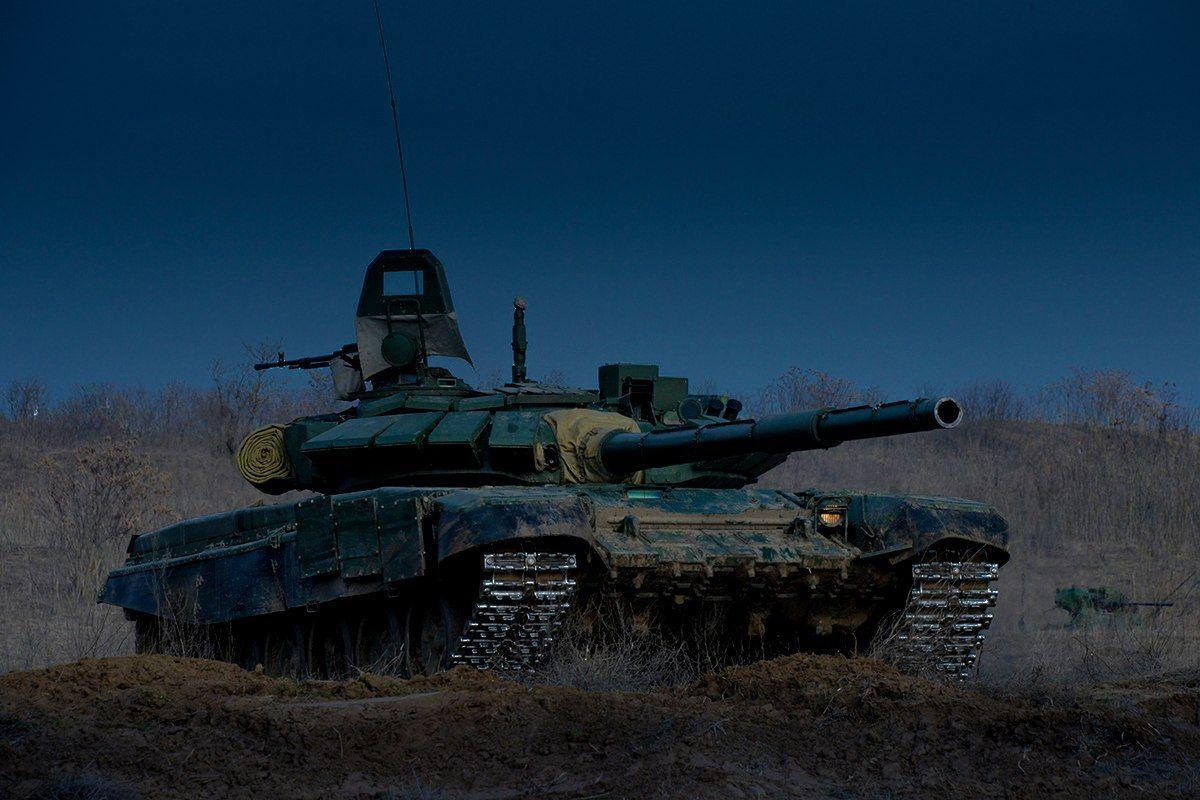tank: (95, 247, 1012, 695)
